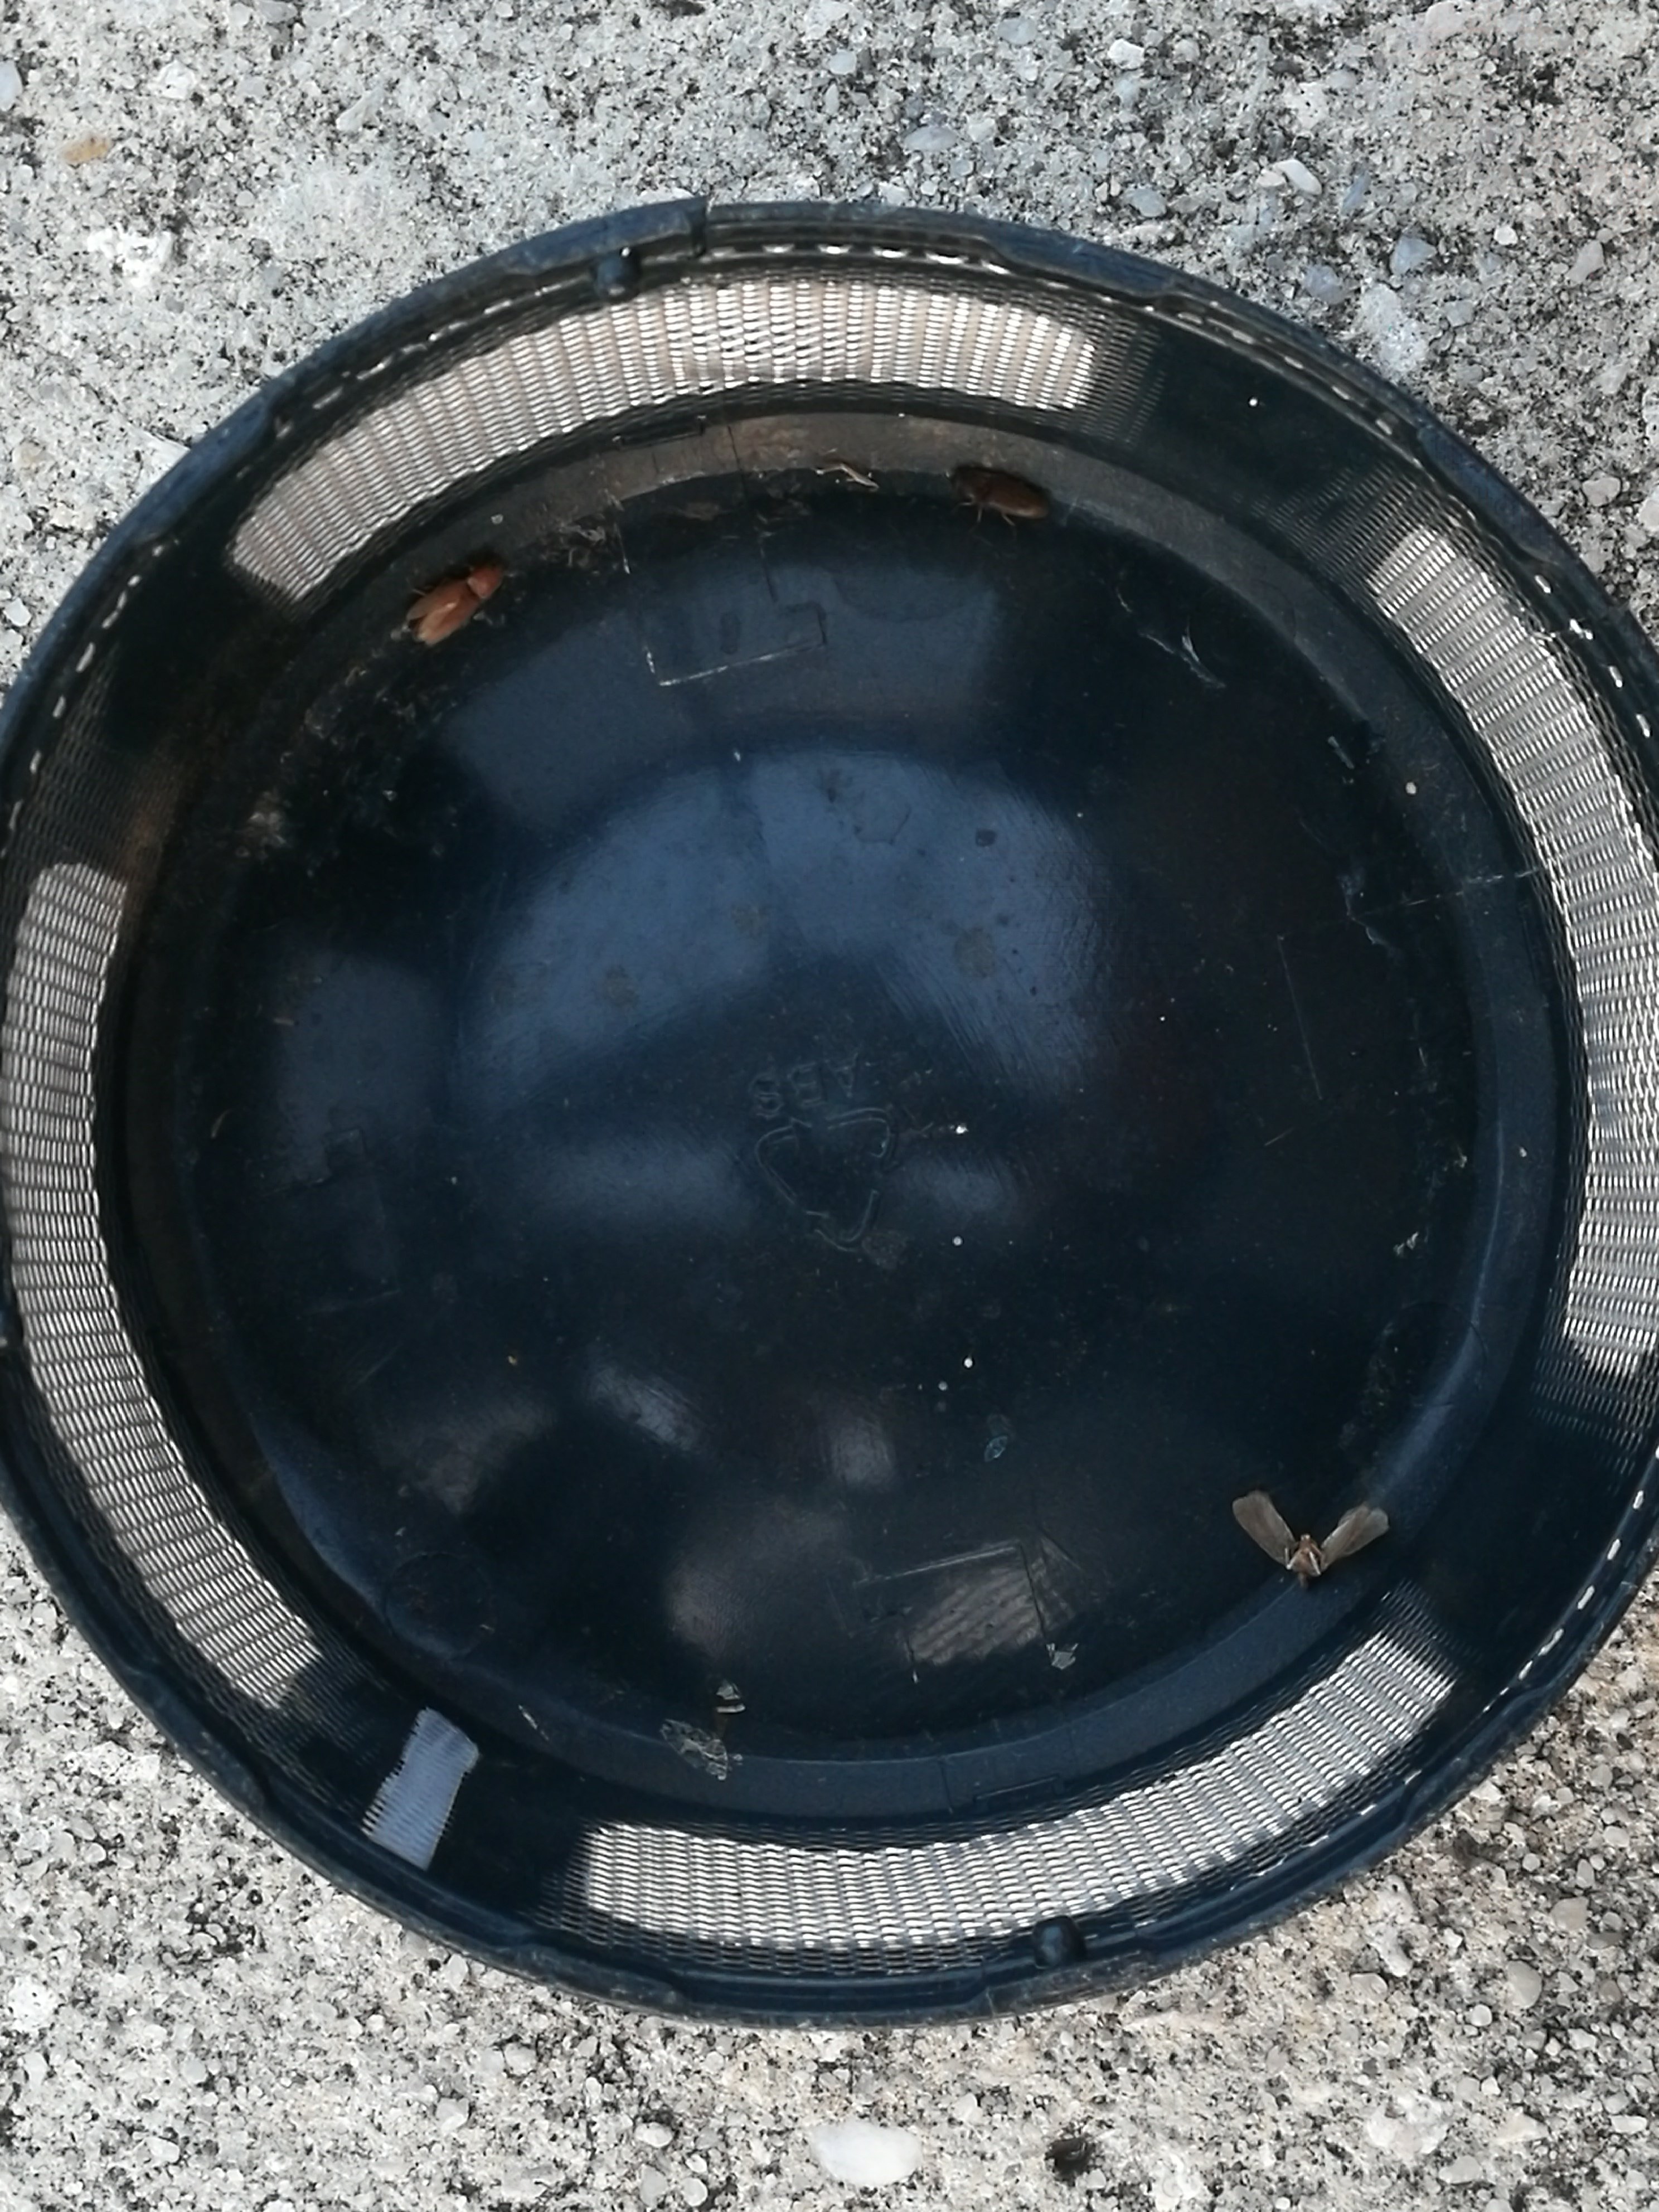mosquito: (408, 566, 500, 646), (953, 469, 1054, 519)
moth: (1237, 1494, 1385, 1568)
